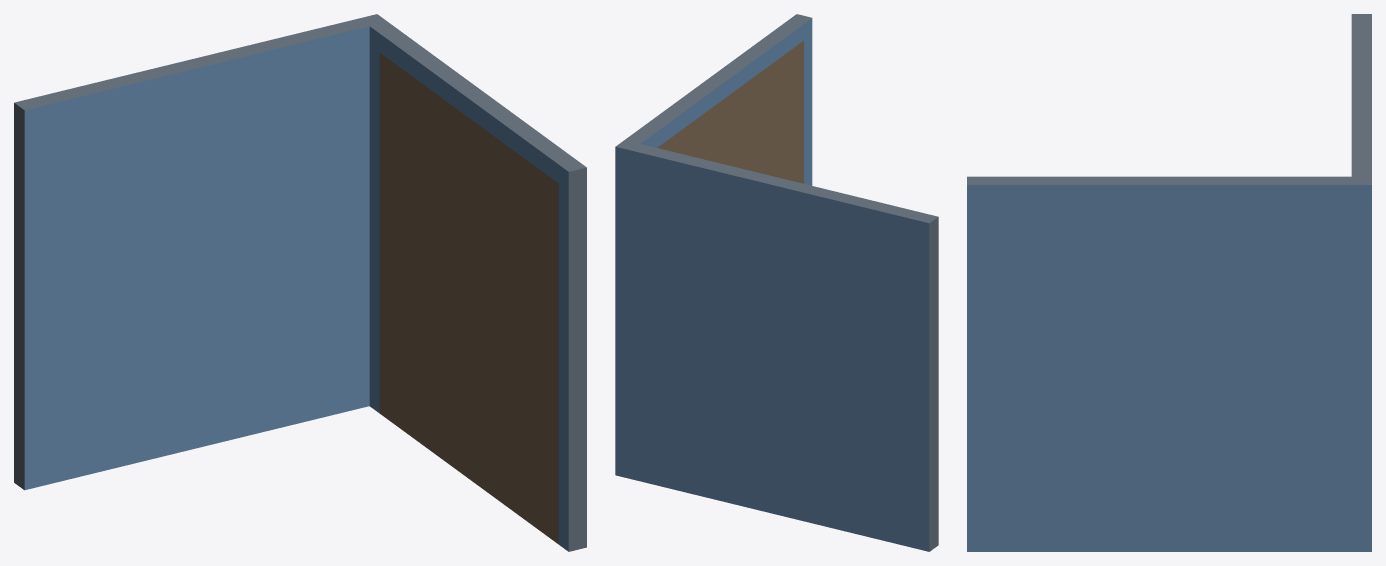
The model's file is Wal_2_3.fbx.
The picture shows the model from 3 angles, left to right: view 1: azimuth 30°, elevation 25°; view 2: azimuth 150°, elevation 25°; view 3: azimuth 270°, elevation 25°; orthographic projection. The views are drawn at different scales.
Parts seen in each view (by area): view 1: polySurface1880; view 2: polySurface1880; view 3: polySurface1880.
Boxes of the visible parts, x1=… form: polySurface1880: x1=14, y1=14, x2=586, y2=551; polySurface1880: x1=615, y1=14, x2=938, y2=551; polySurface1880: x1=967, y1=14, x2=1371, y2=551.
Size of the model in its own units: 4 by 4 by 4.
Materials: 1 (1 with a texture image).
